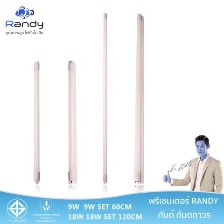light_bulb: (132, 9, 145, 186), (100, 8, 110, 186), (65, 60, 79, 187), (31, 59, 41, 187)
